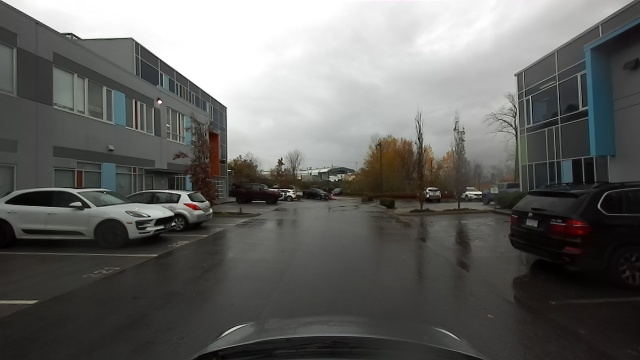car: (505, 180, 635, 264), (4, 189, 177, 246), (172, 189, 216, 233), (232, 180, 279, 206), (282, 184, 327, 203), (465, 187, 492, 205), (424, 187, 442, 202)
